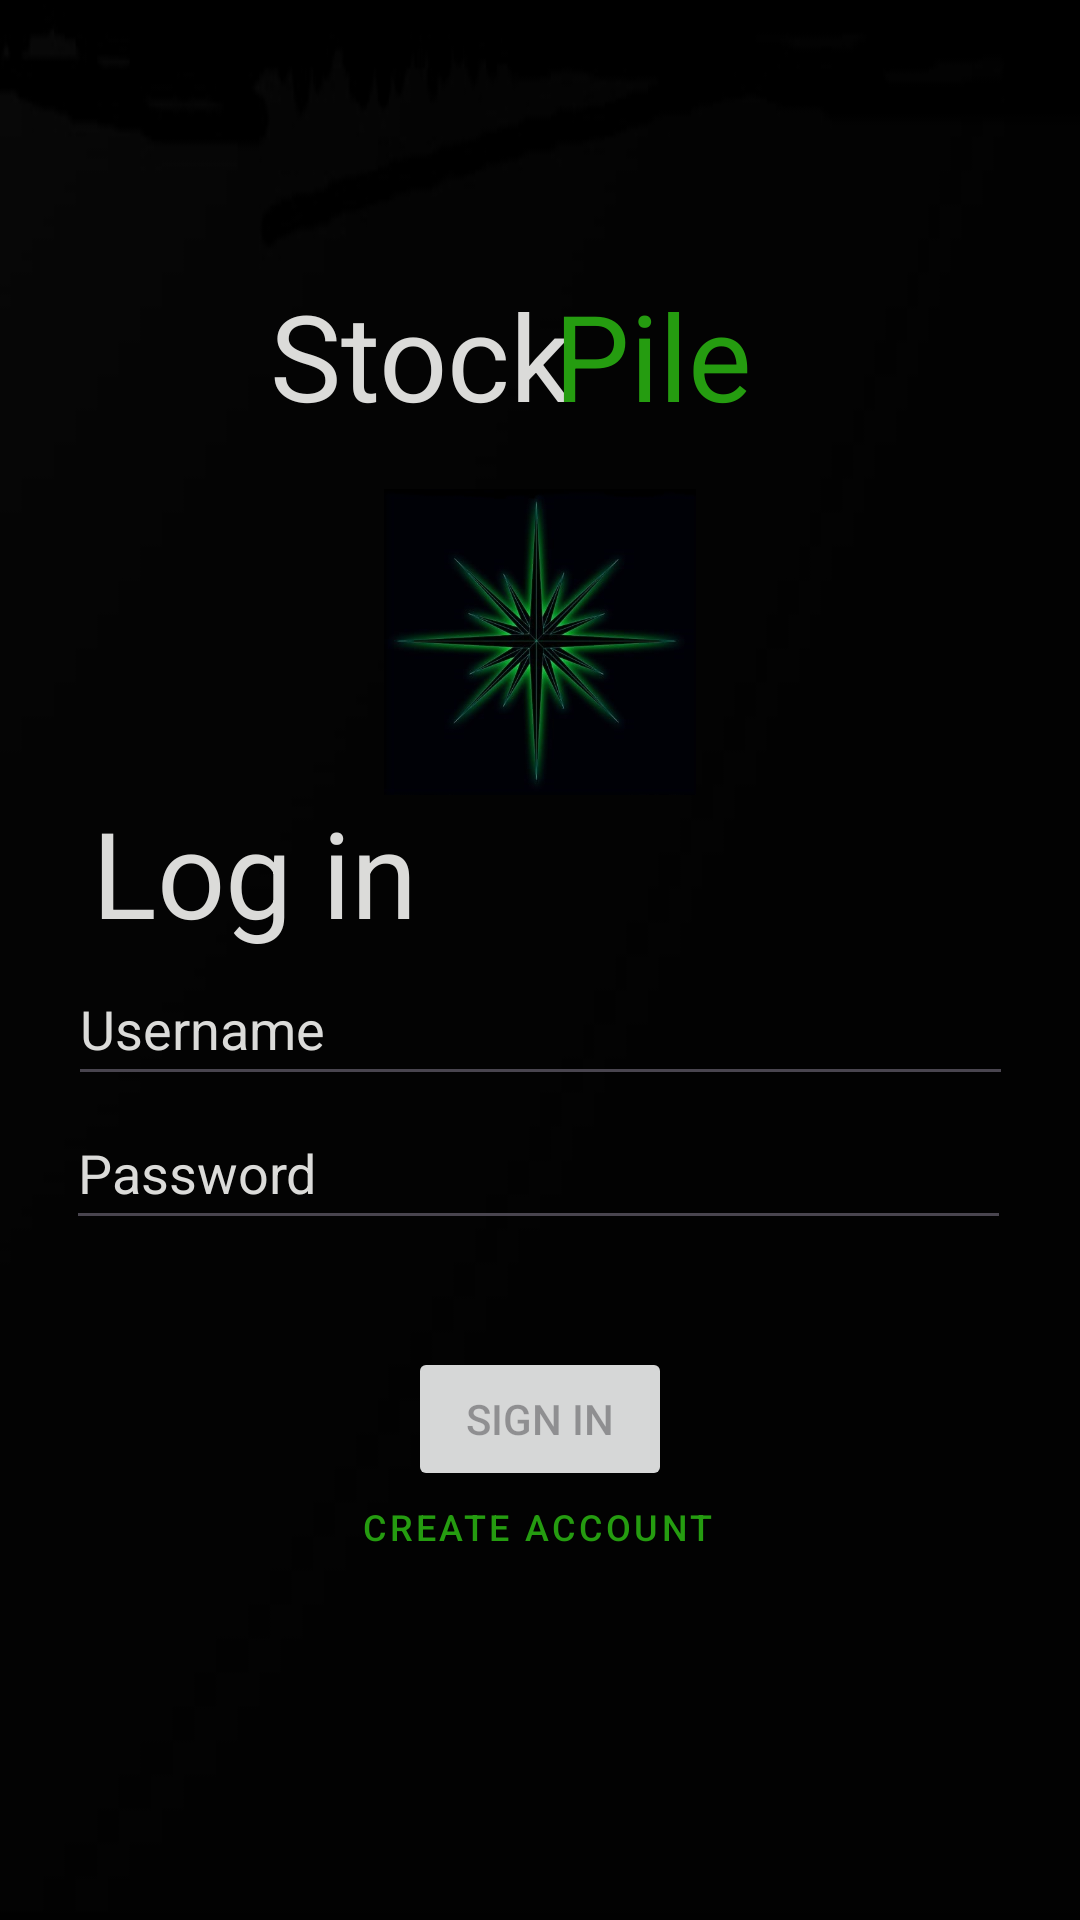

Icons on this 1080*1920 Android screen, each with its box as (x1, y1, x2, y2):
star: (397, 501, 676, 780)
